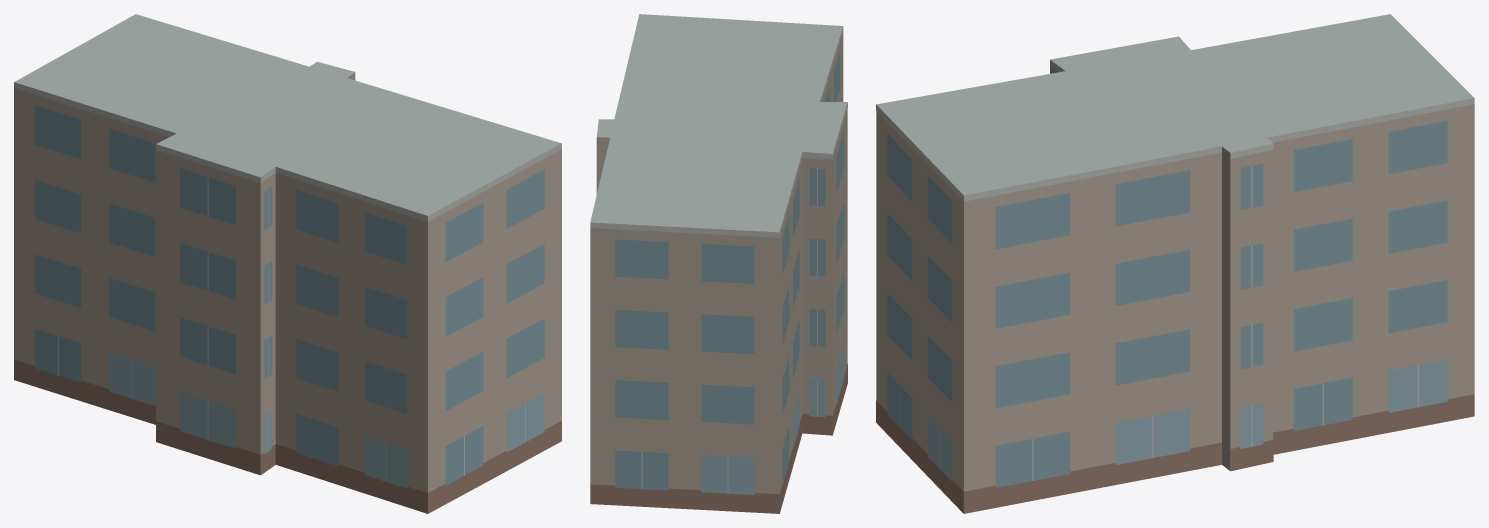
The model's file is survey-upis-32859627.glb.
3 renders of one model, left to right at view 1: azimuth 30°, elevation 25°; view 2: azimuth 150°, elevation 25°; view 3: azimuth 270°, elevation 25°, orthographic. The views are drawn at different scales.
Parts seen in each view (by area): view 1: survey-upis-32859627.tmp; view 2: survey-upis-32859627.tmp; view 3: survey-upis-32859627.tmp.
Part boxes in pixels (x1,y1,x2,y2): survey-upis-32859627.tmp: (14, 14, 561, 513); survey-upis-32859627.tmp: (590, 14, 847, 513); survey-upis-32859627.tmp: (876, 14, 1474, 513).
Bounding box in the file's own units: 15.28 × 12.49 × 21.29.
